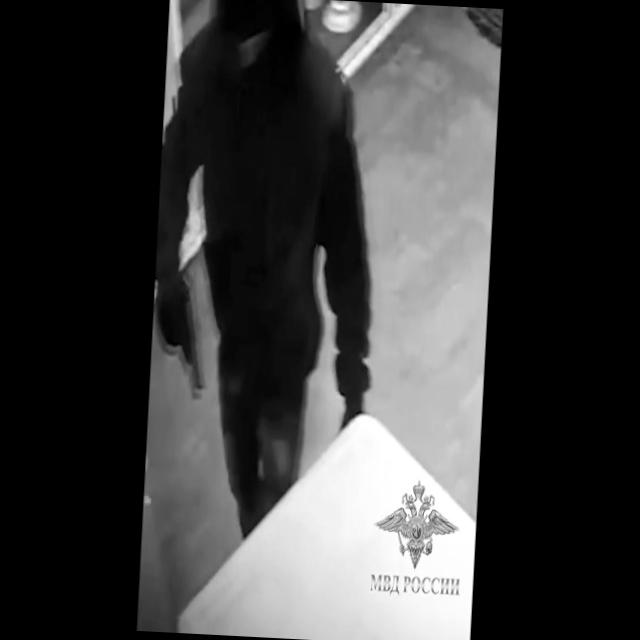gun: (152, 280, 214, 404)
person with a gun: (142, 0, 389, 546)
